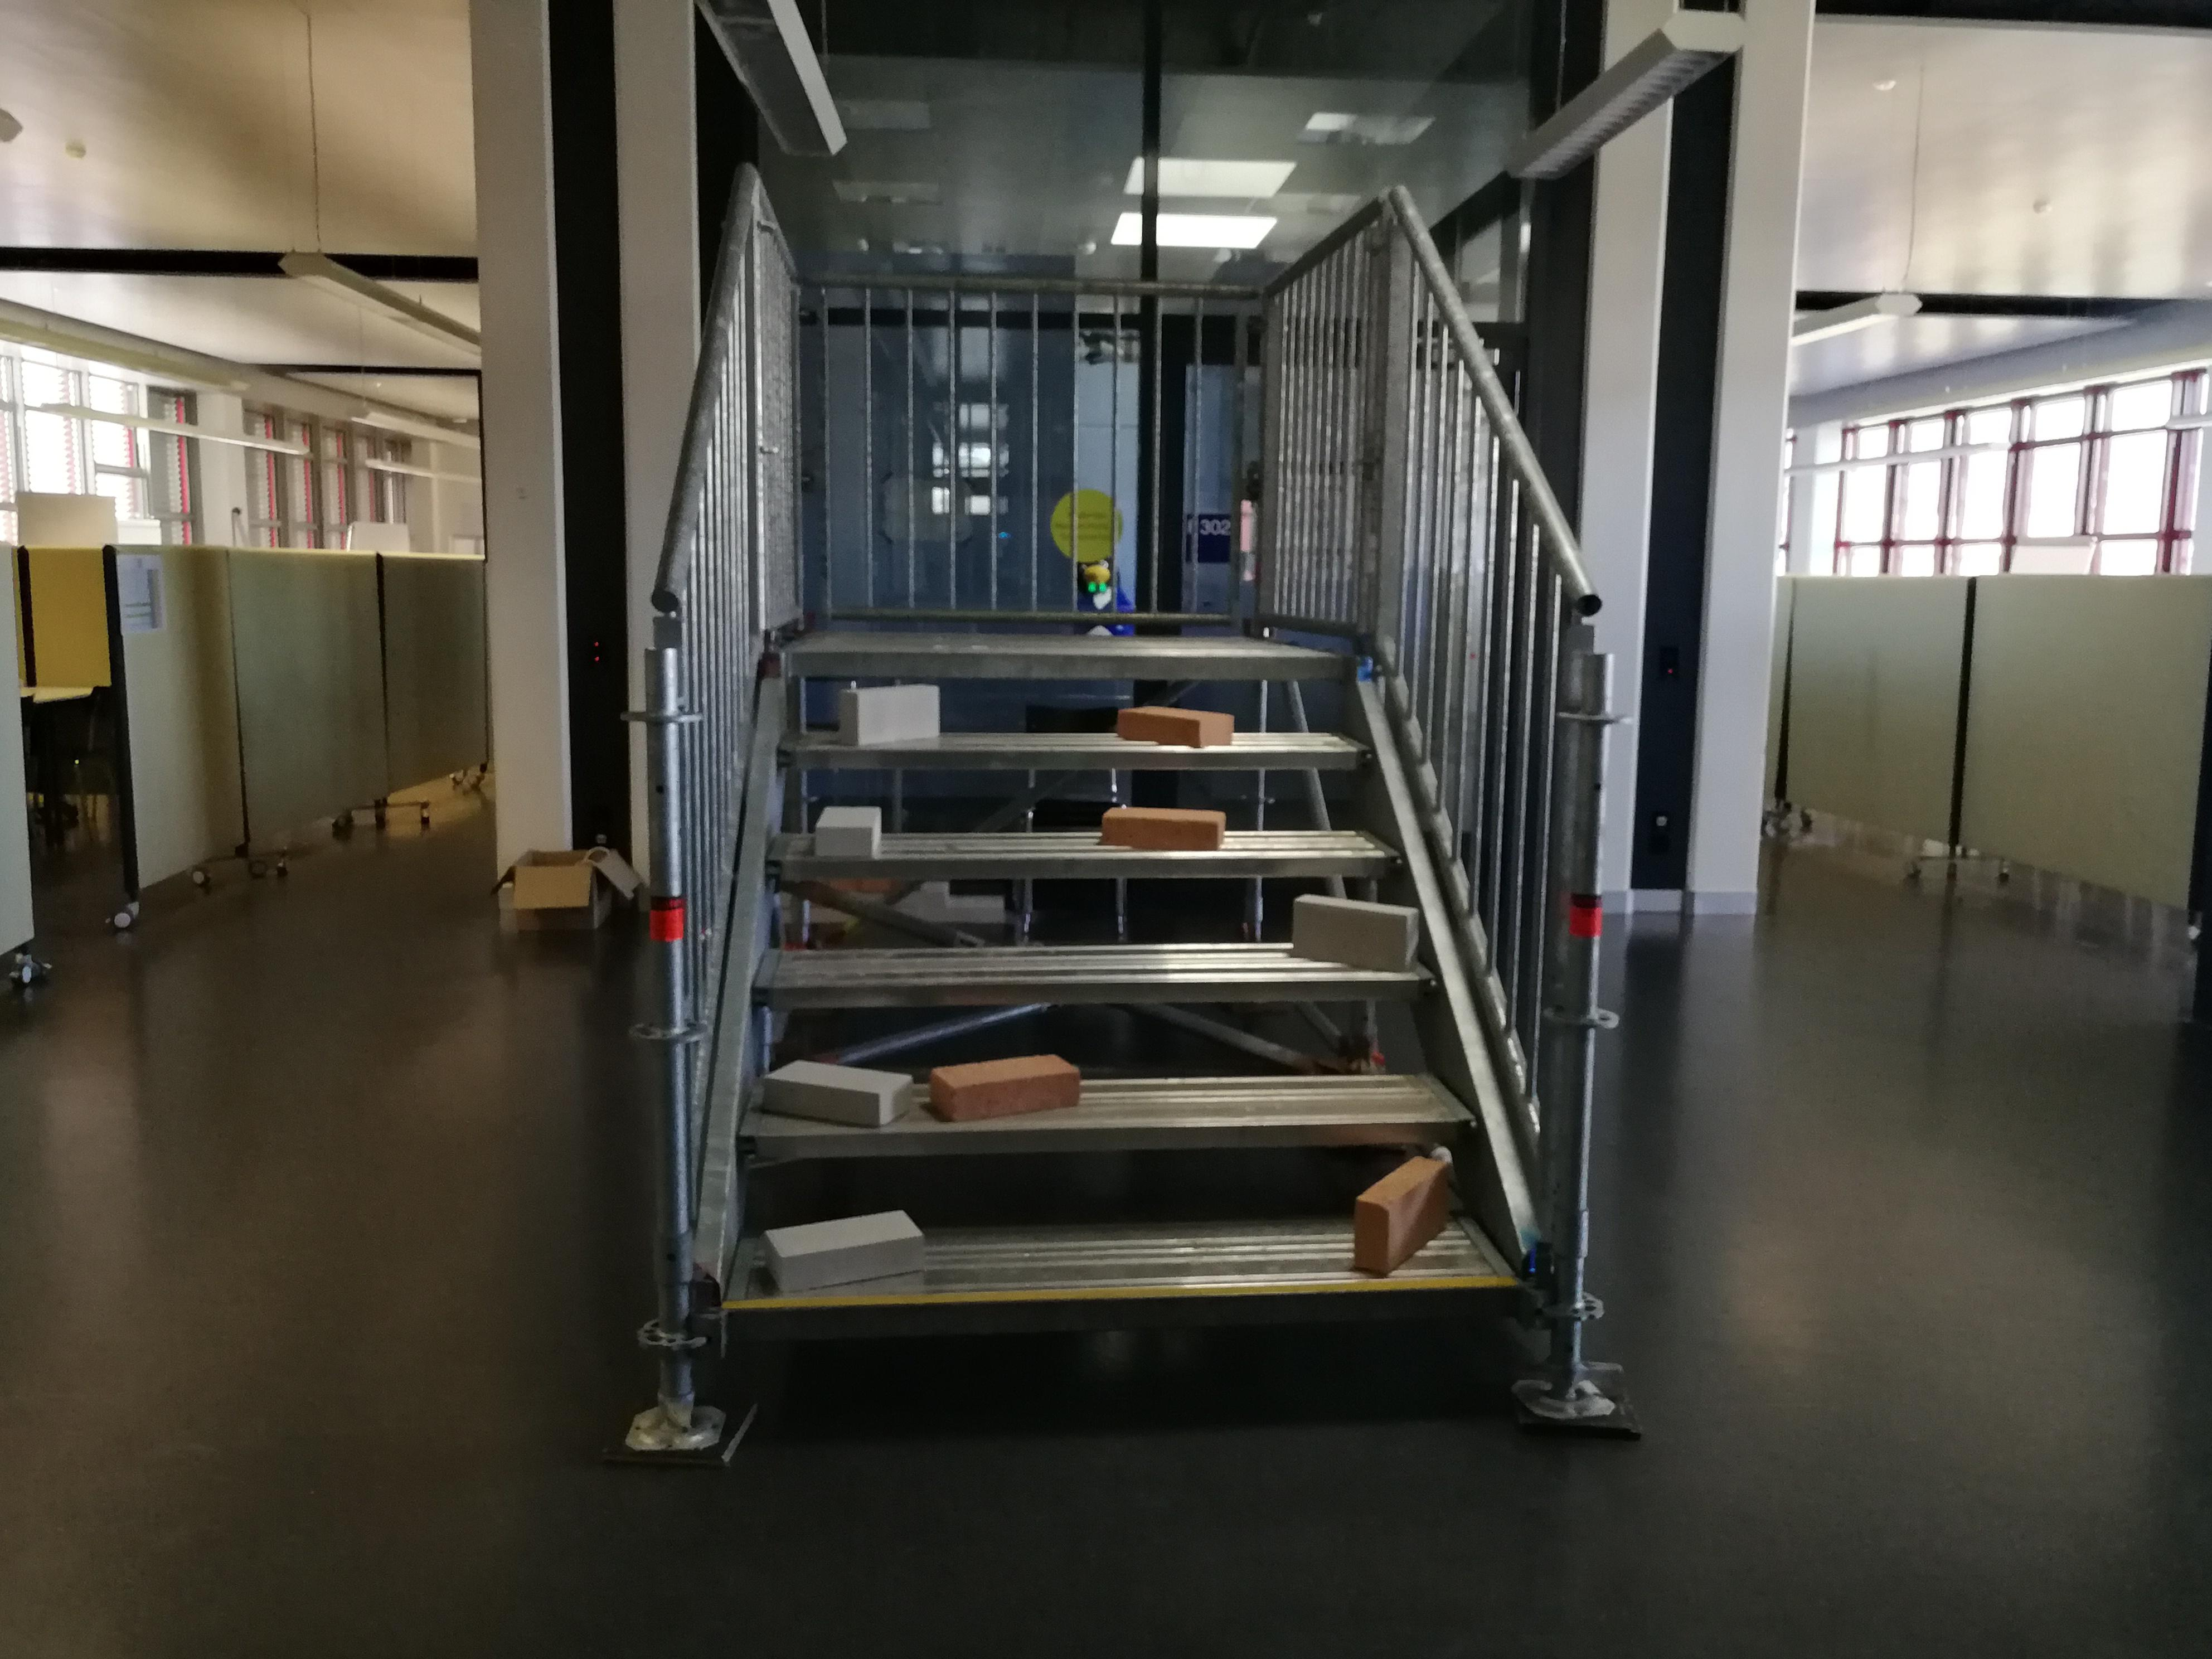brick: (763, 1211, 920, 1288), (1353, 1159, 1451, 1277), (927, 1053, 1078, 1127), (758, 1058, 911, 1129), (1292, 892, 1418, 972), (1101, 803, 1223, 850), (843, 687, 937, 741), (1118, 706, 1231, 744), (817, 809, 881, 856)
edge: (725, 1283, 1515, 1340), (728, 1121, 1484, 1159), (754, 976, 1439, 1007), (766, 850, 1399, 880), (784, 650, 1346, 680), (773, 748, 1374, 770)
stairs: (606, 157, 1644, 1473)
steps: (709, 636, 1527, 1358)
